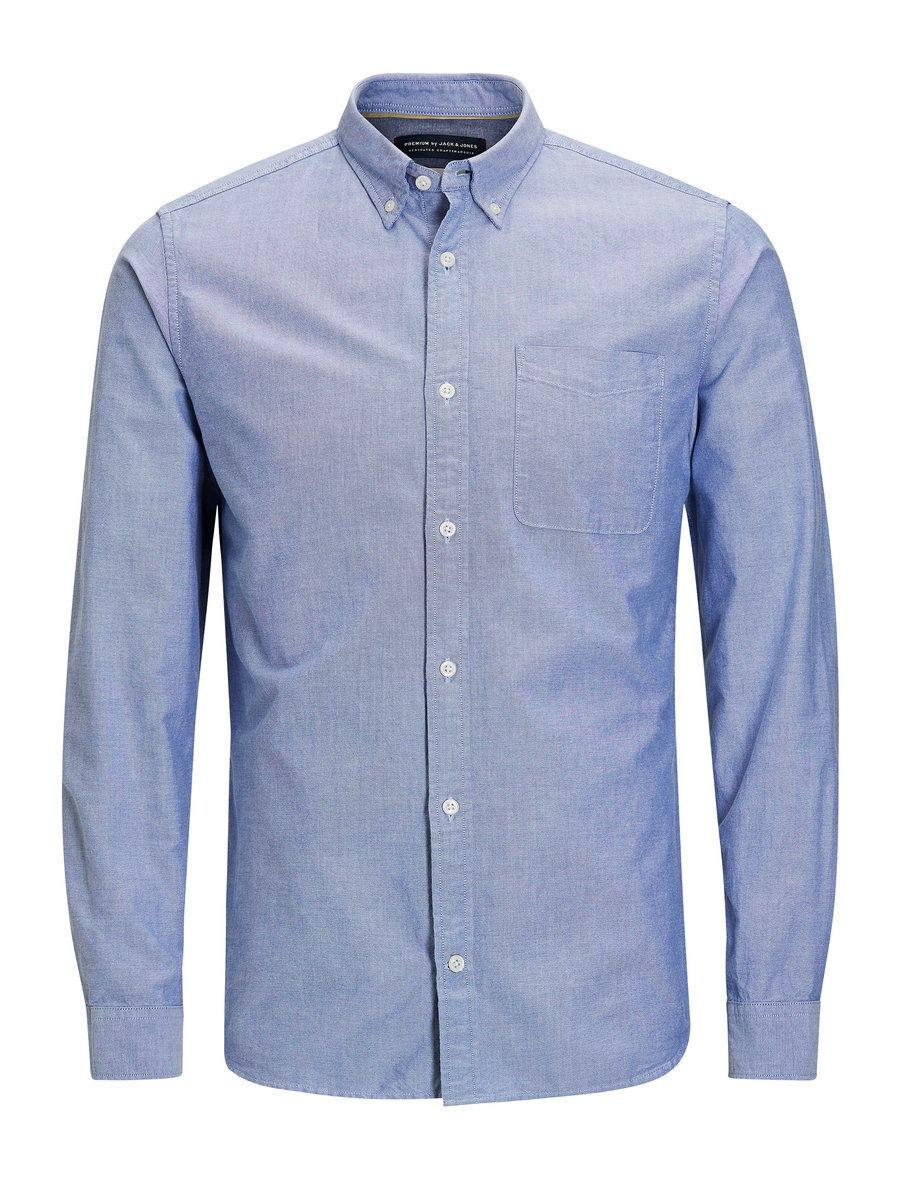teeshirt: (42, 76, 874, 1105)
